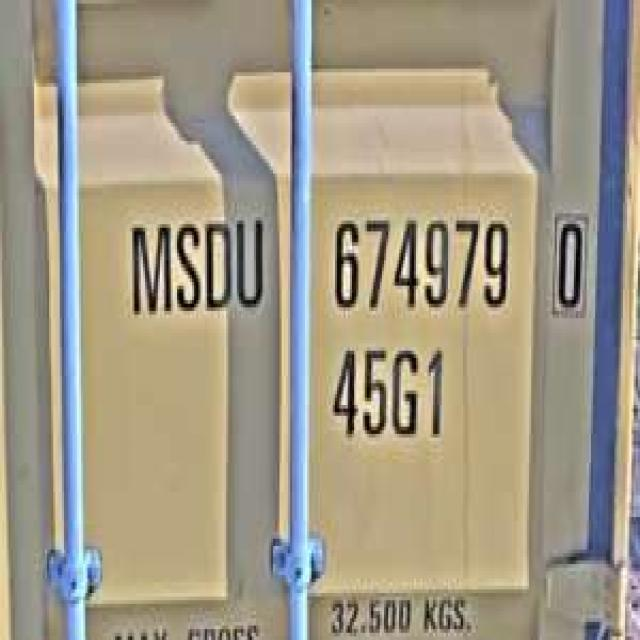dv: (546, 199, 591, 322)
owner: (124, 203, 269, 329)
serial: (324, 199, 514, 325)
size: (324, 336, 448, 448)
